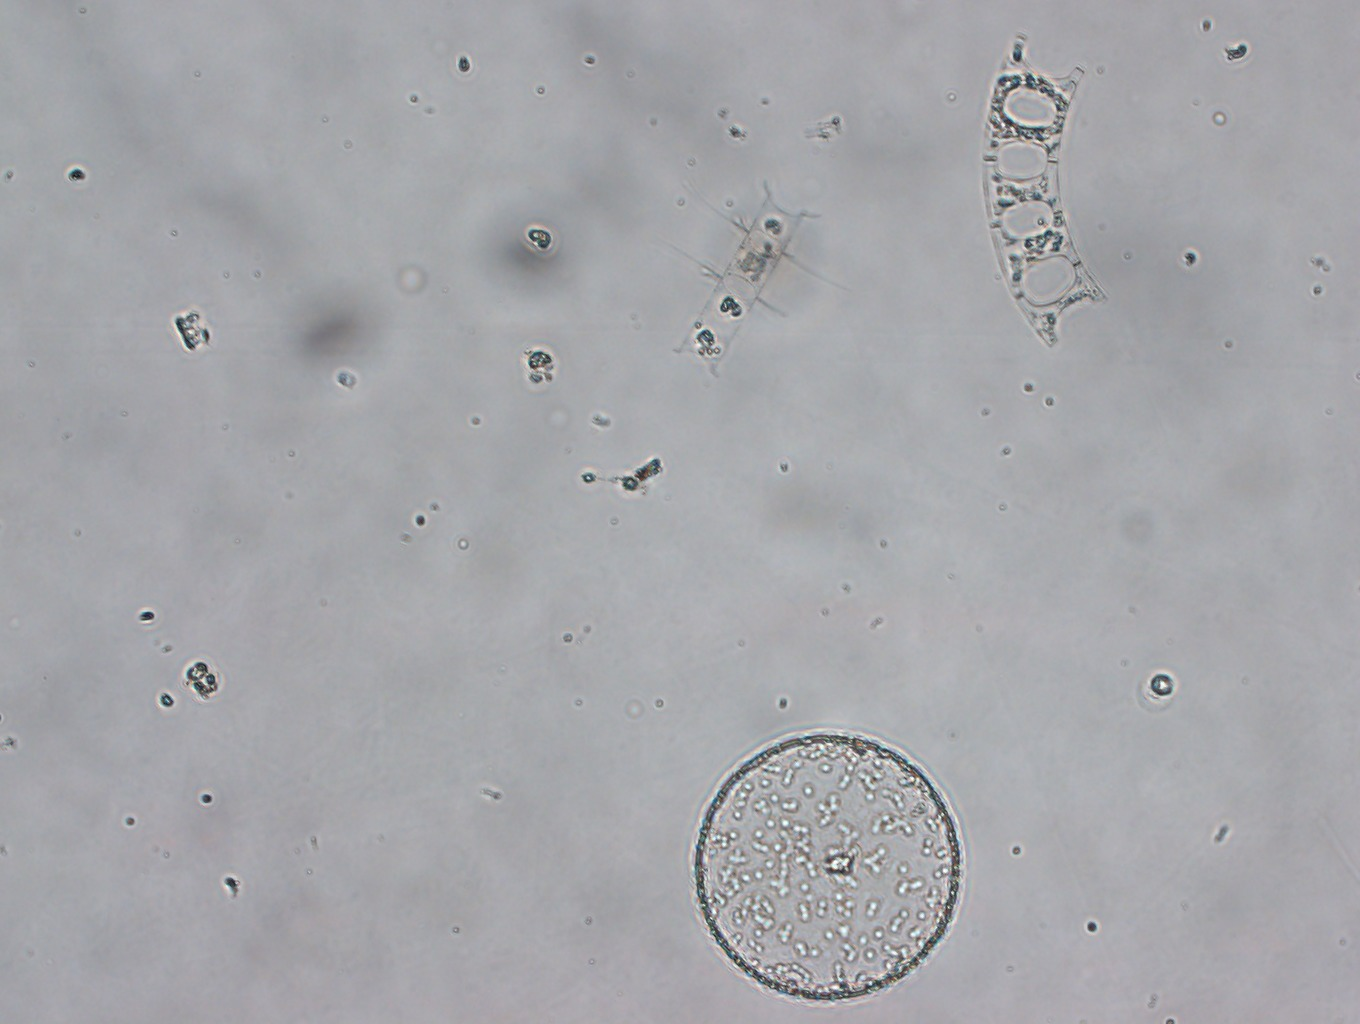chaetoceros: (653, 179, 851, 386)
coscinodiscus: (690, 727, 967, 1007)
eucampia: (980, 30, 1105, 349)
